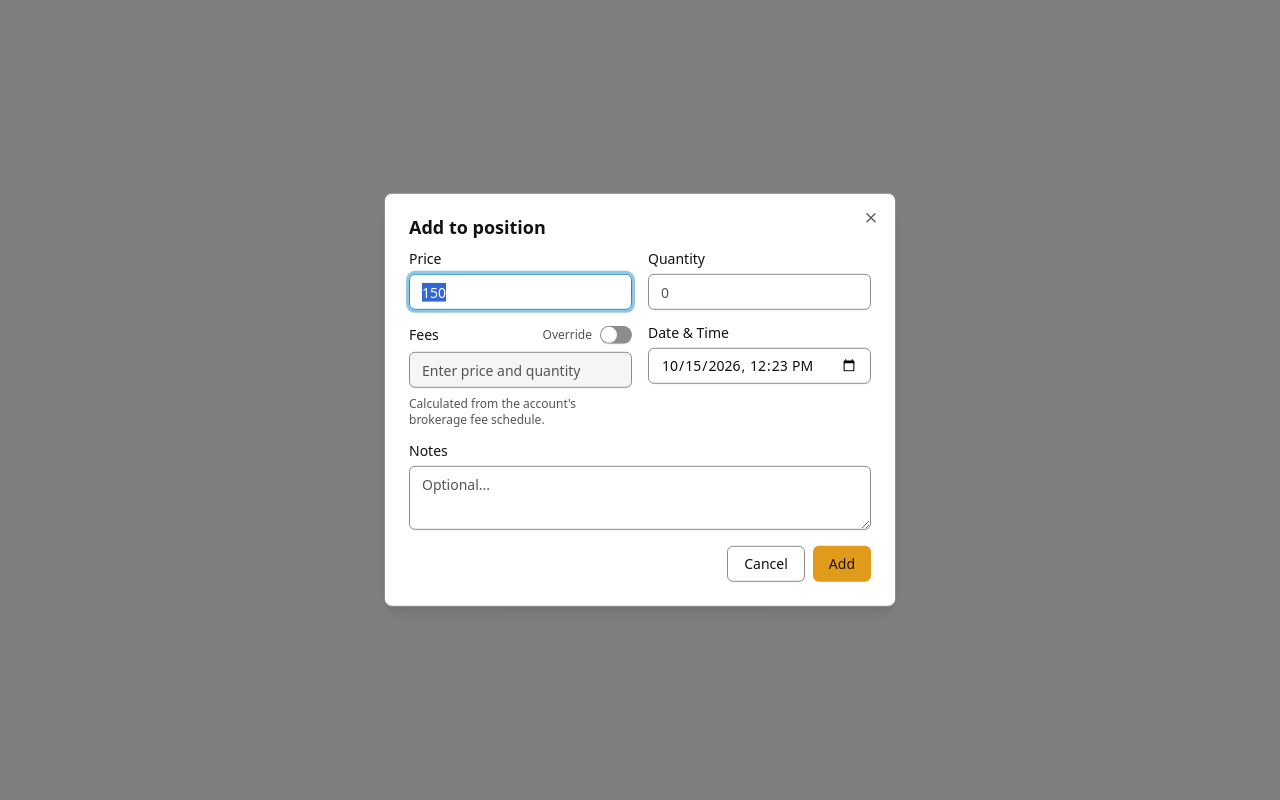
Test: FillDialog — brokerage fee preview › shows a read-only calculated fee when a schedule exists
Type "1000" into the field labelled "Quantity" at (760, 292), box [648,274,871,310]
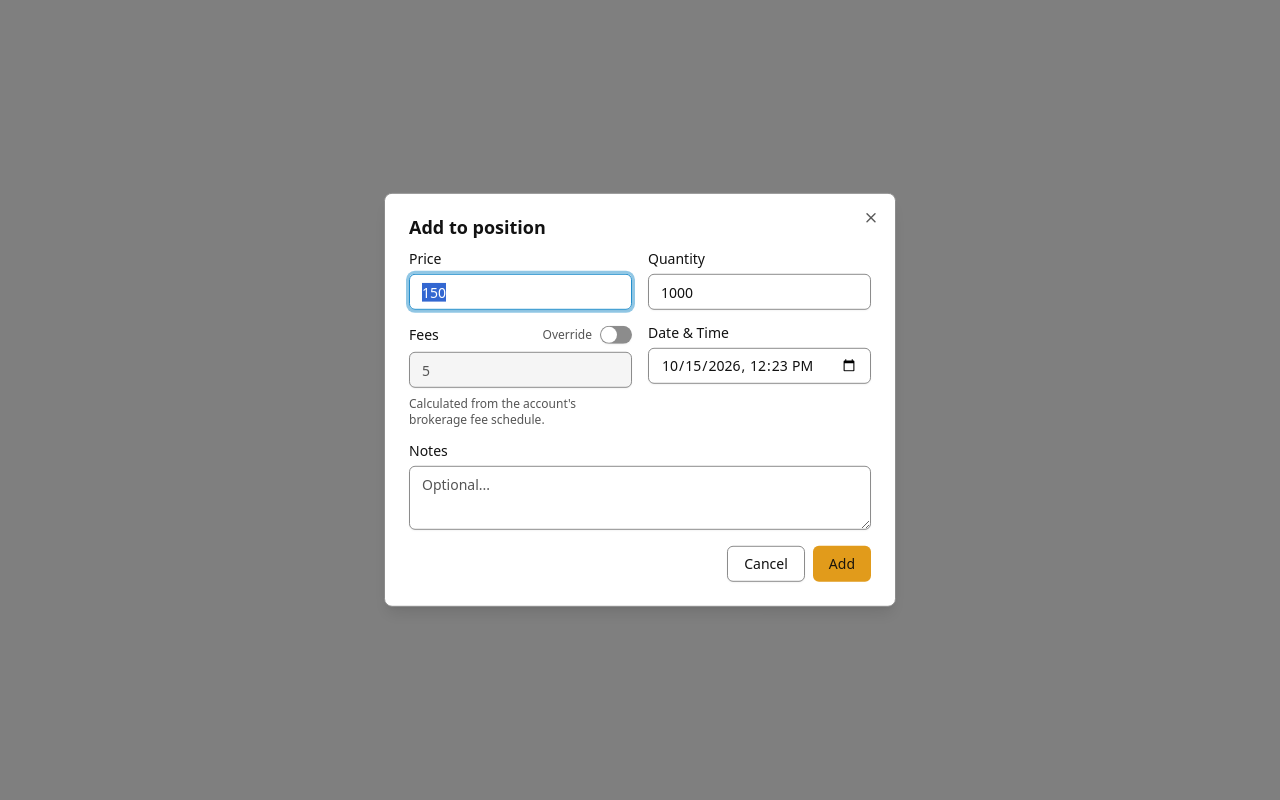
Check: the field labelled "Fees" holds "5", box [409,352,632,388]
